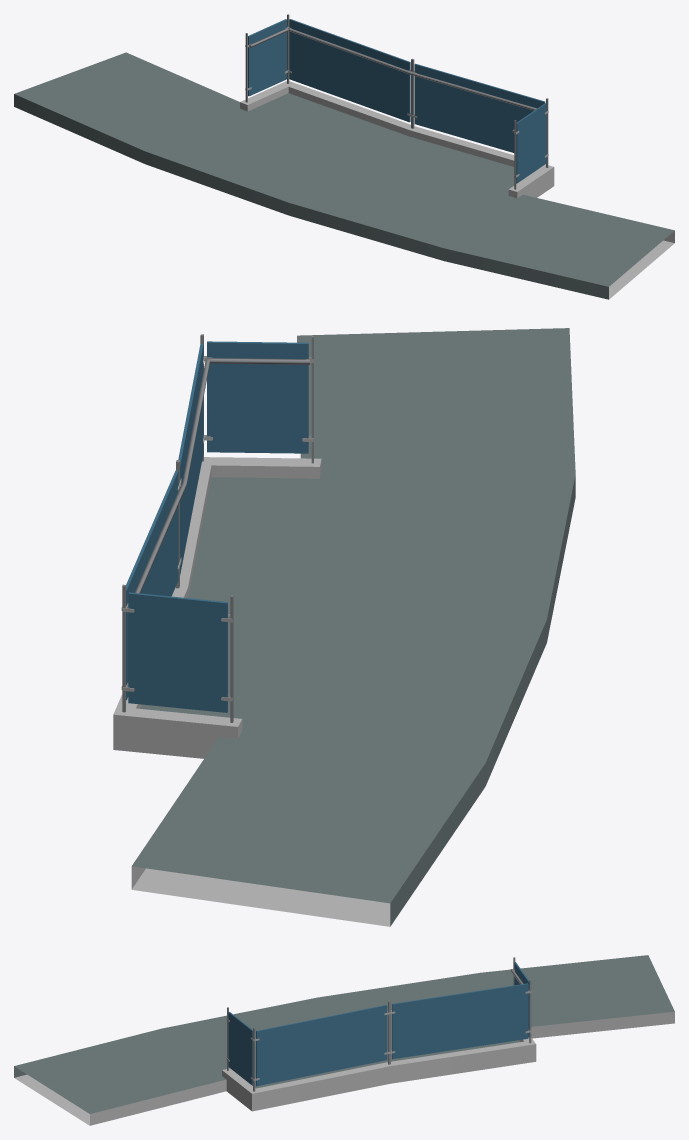
File: MCM_2F_002.fbx
The picture shows the model from 3 angles, top to bottom: view 1: azimuth 30°, elevation 25°; view 2: azimuth 150°, elevation 25°; view 3: azimuth 270°, elevation 25°; orthographic projection. The views are drawn at different scales.
Parts seen in each view (by area): view 1: MCM_2F_002; view 2: MCM_2F_002; view 3: MCM_2F_002.
Boxes of the visible parts, x1,y1,x2,y2 form: MCM_2F_002: (14,14,674,299); MCM_2F_002: (113,328,575,926); MCM_2F_002: (14,955,674,1125).
Bounding box in the file's own units: 5.8 × 10.19 × 1.37.
Materials: 3 (3 with a texture image).
